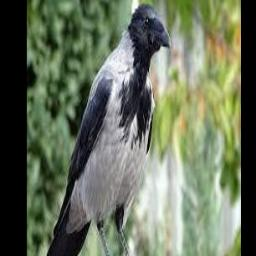Crow: (44, 3, 170, 256)
